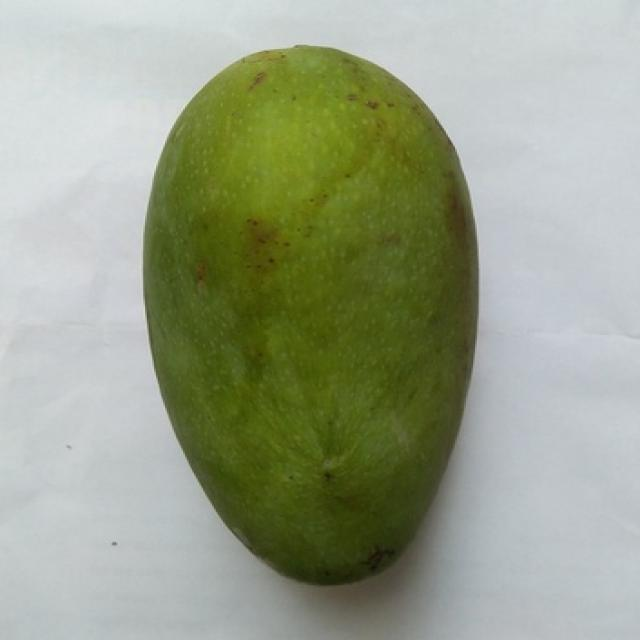Mango: (145, 46, 473, 583)
